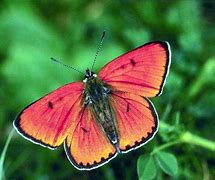insect: (13, 31, 172, 170)
